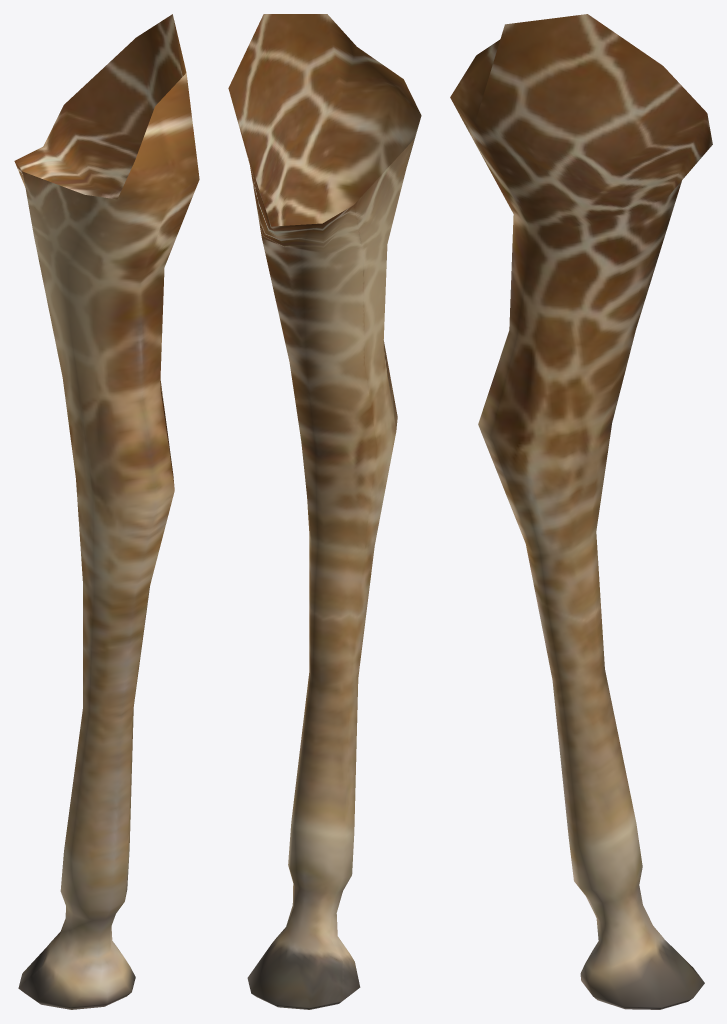
The model's file is jB_rightleg.obj.
The picture shows the model from 3 angles, left to right: view 1: azimuth 30°, elevation 25°; view 2: azimuth 150°, elevation 25°; view 3: azimuth 270°, elevation 25°; orthographic projection. The views are drawn at different scales.
Parts seen in each view (by area): view 1: 1.001; view 2: 1.001; view 3: 1.001.
Boxes of the visible parts, left/top/right/bottom form: 1.001: left=14, top=14, right=199, bottom=1009; 1.001: left=228, top=14, right=421, bottom=1009; 1.001: left=450, top=14, right=712, bottom=1009.
Size of the model in its own units: 0.5674 by 4.34 by 1.03.
Materials: 1 (1 with a texture image).
